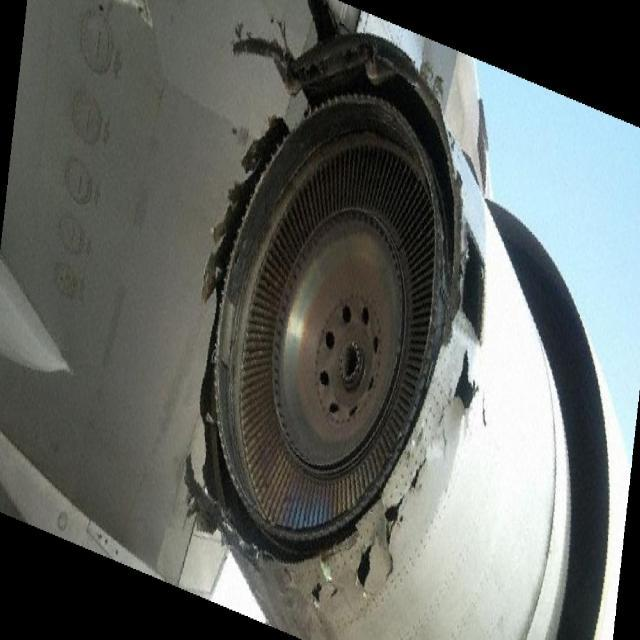crack: (313, 342, 493, 607)
